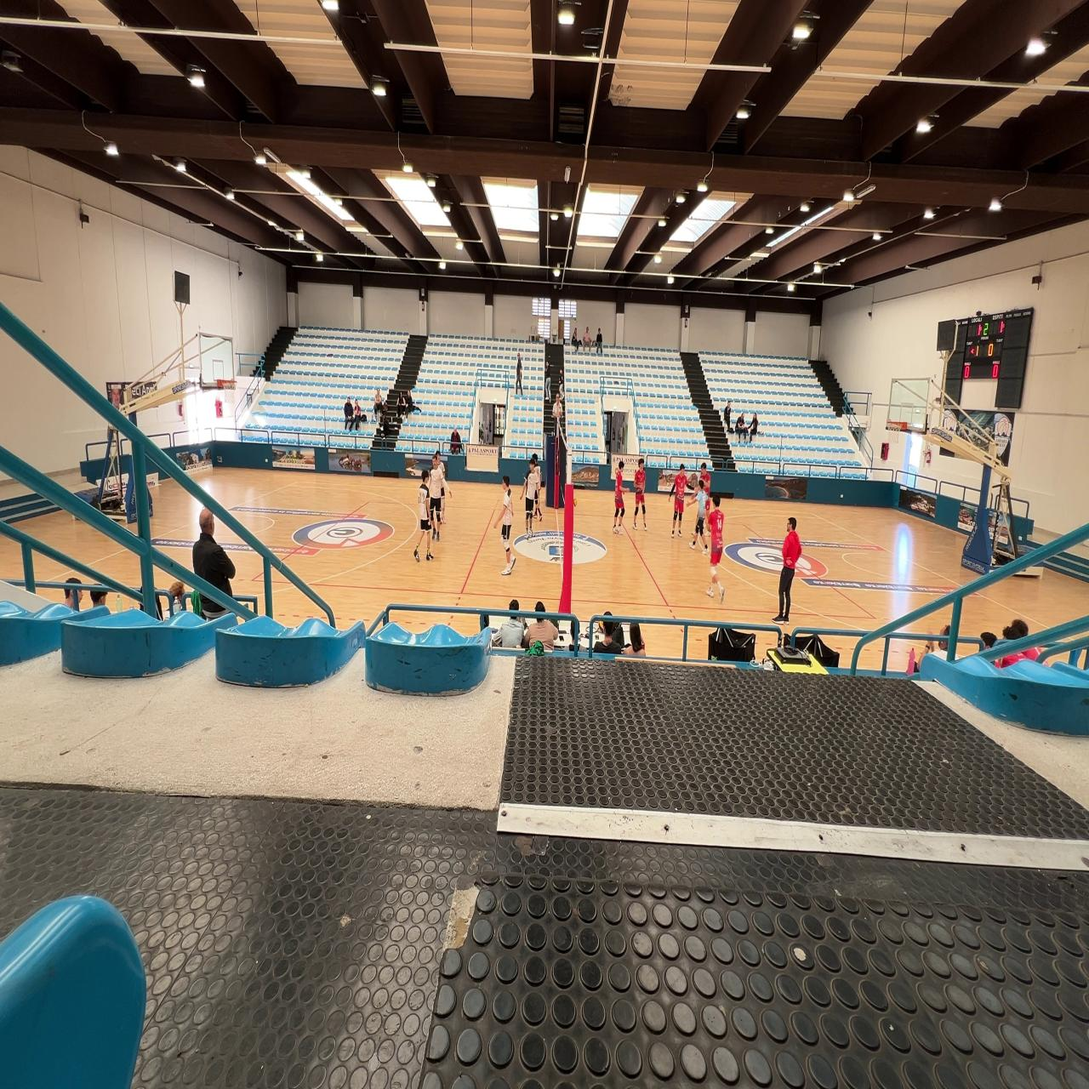ball: (573, 498, 577, 507)
